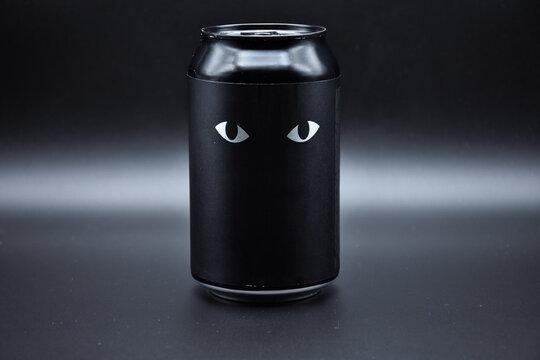tin can: (185, 20, 343, 305)
